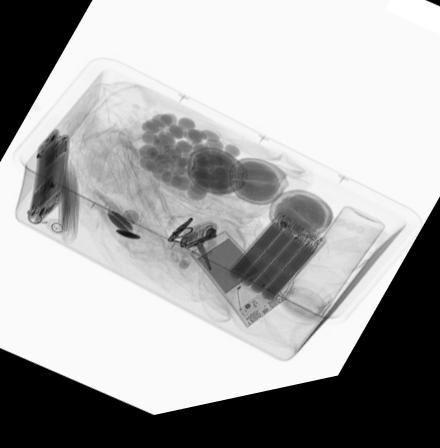Powerbank: (227, 221, 328, 310)
